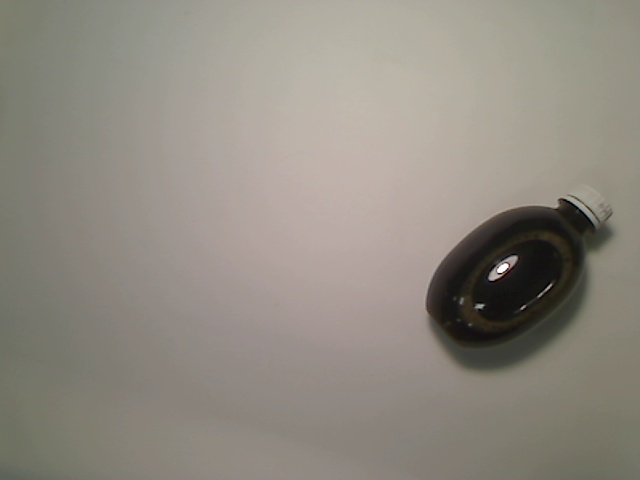plast_bottle: (425, 183, 615, 350)
